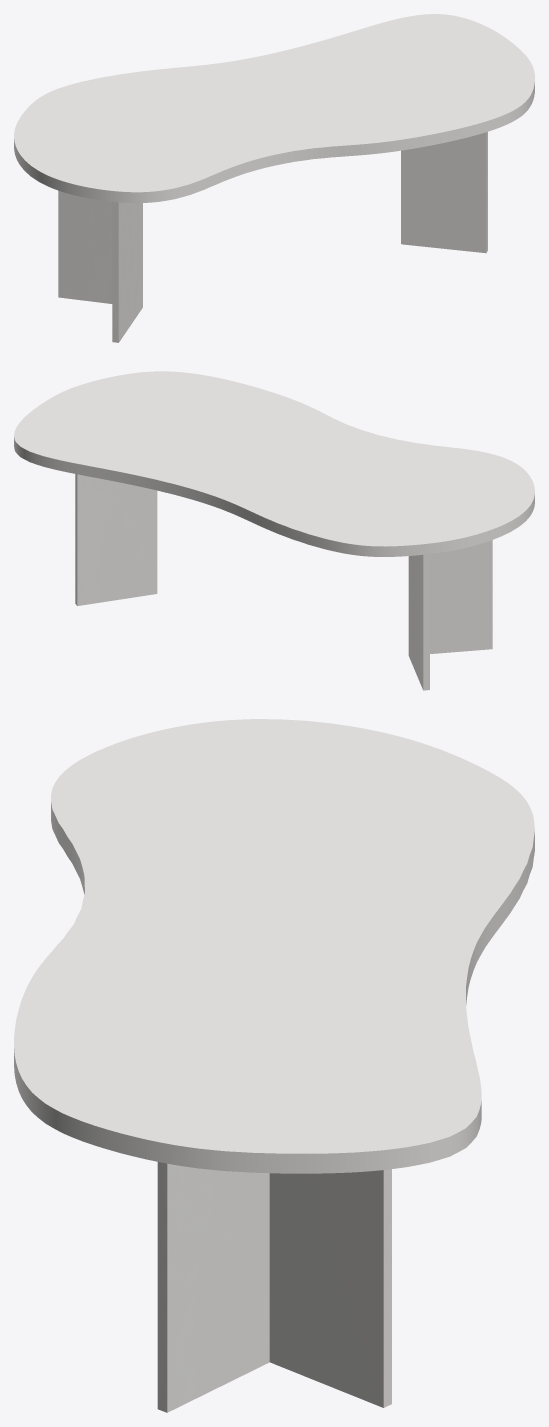
File: purewhite_wave_standard_valleyv.glb
3 views of the same model, one above another, from view 1: azimuth 30°, elevation 25°; view 2: azimuth 150°, elevation 25°; view 3: azimuth 270°, elevation 25° (orthographic). The views are drawn at different scales.
Parts seen in each view (by area): view 1: standard_wave, valleyv; view 2: standard_wave, valleyv; view 3: standard_wave, valleyv.
Part boxes in pixels (bbox=[...]): standard_wave: bbox=[14, 14, 534, 203]; valleyv: bbox=[58, 132, 487, 342]; standard_wave: bbox=[14, 371, 534, 556]; valleyv: bbox=[75, 474, 492, 690]; standard_wave: bbox=[14, 719, 534, 1173]; valleyv: bbox=[157, 1162, 391, 1412].
Bounding box in the file's own units: 7.5 × 2.5 × 3.8.
1 material, 1 textured.
